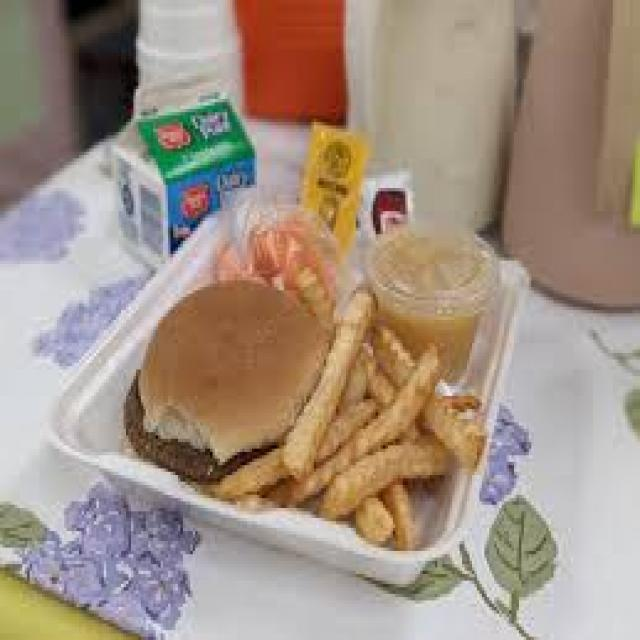Burger: (121, 274, 326, 478)
French Fries: (306, 280, 489, 538)
